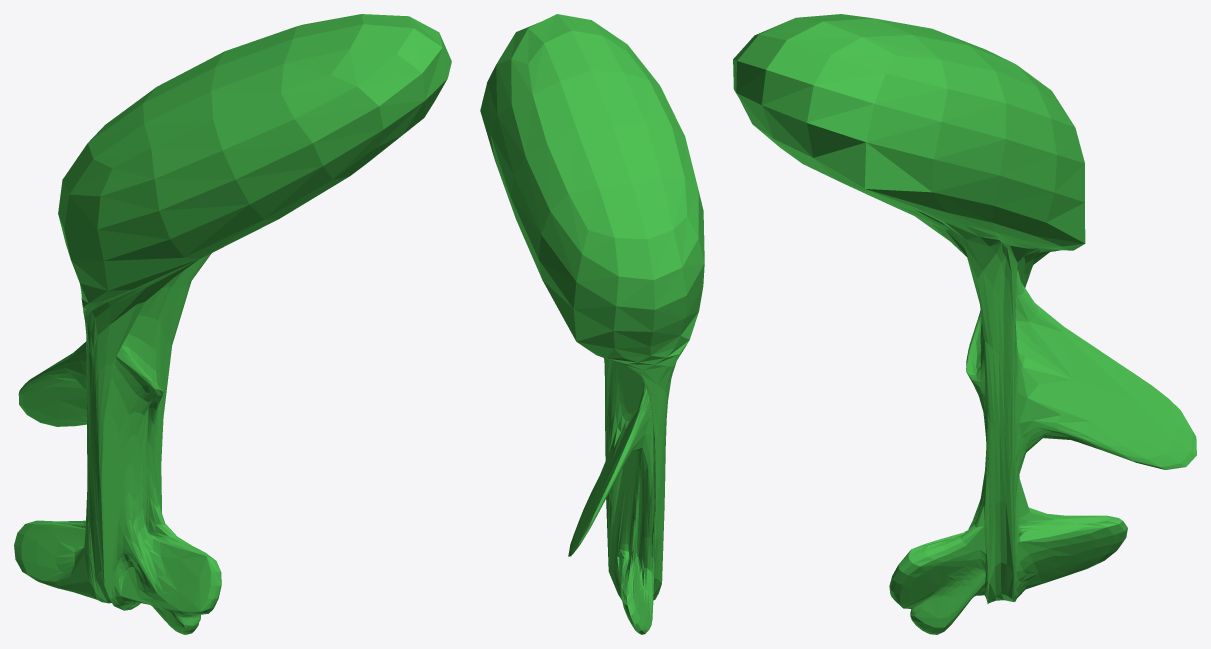
3 renders of one model, left to right at view 1: azimuth 30°, elevation 25°; view 2: azimuth 150°, elevation 25°; view 3: azimuth 270°, elevation 25°, orthographic. The views are drawn at different scales.
Visible parts, largest first — view 1: 433_Cube.1758; view 2: 433_Cube.1758; view 3: 433_Cube.1758.
Boxes of the visible parts, bbox=[...] form: 433_Cube.1758: bbox=[14, 14, 451, 634]; 433_Cube.1758: bbox=[480, 14, 704, 634]; 433_Cube.1758: bbox=[733, 14, 1196, 634].
Bounding box in the file's own units: 8.5 × 16.05 × 9.89.
